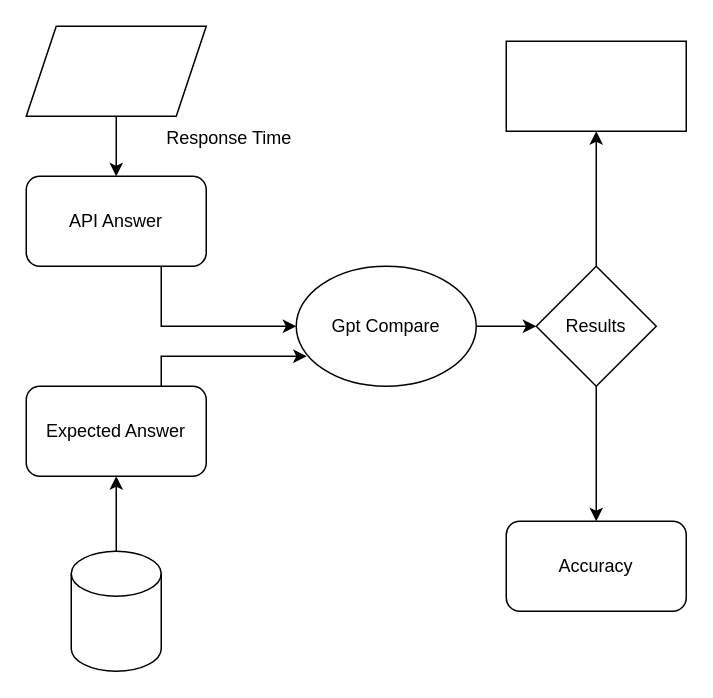
The diagram is 713 pixels wide and 698 high, and some of its shapes have lost their labels. The centre of each missing label's shape, as x and y in pixels:
DB: (x=115, y=610)
Innolab24: (x=115, y=70)
Quality: (x=595, y=85)
